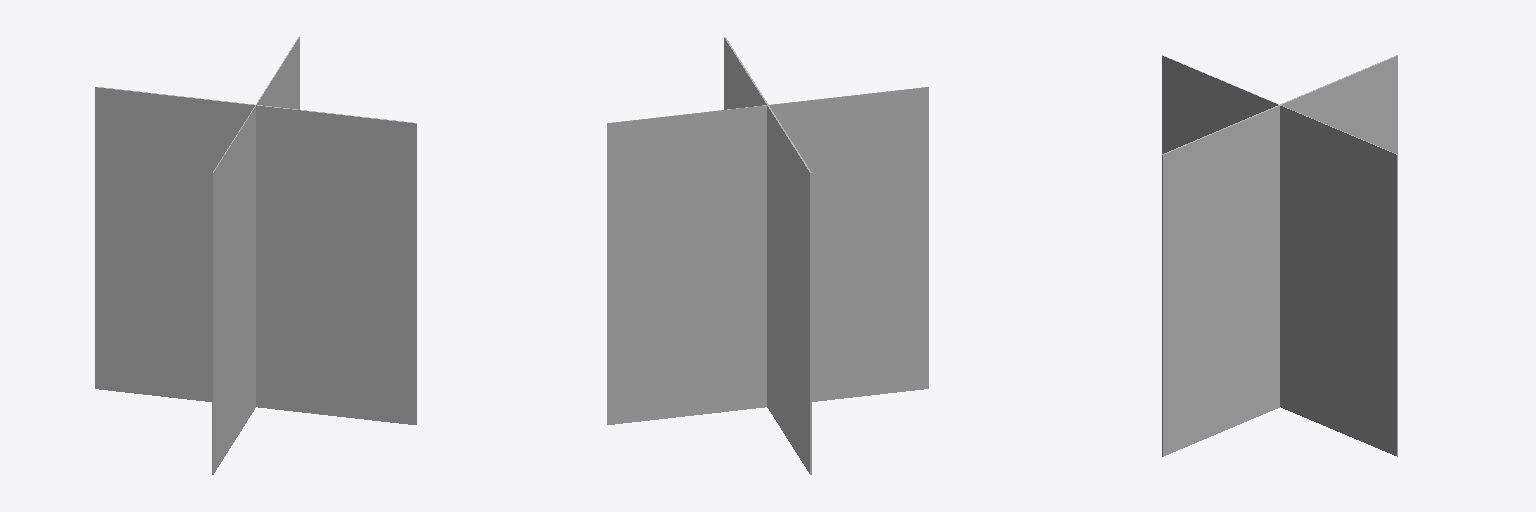
File: FireBall.obj
The picture shows the model from 3 angles: view 1: azimuth 30°, elevation 25°; view 2: azimuth 150°, elevation 25°; view 3: azimuth 270°, elevation 25°; orthographic projection.
Parts seen in each view (by area): view 1: Cube.001_Cube.002; view 2: Cube.001_Cube.002; view 3: Cube.001_Cube.002.
Boxes of the visible parts, x1=… form: Cube.001_Cube.002: x1=95, y1=37, x2=416, y2=474; Cube.001_Cube.002: x1=607, y1=37, x2=928, y2=474; Cube.001_Cube.002: x1=1162, y1=55, x2=1397, y2=456.
Bounding box in the file's own units: 0.1173 × 0.165 × 0.1173.